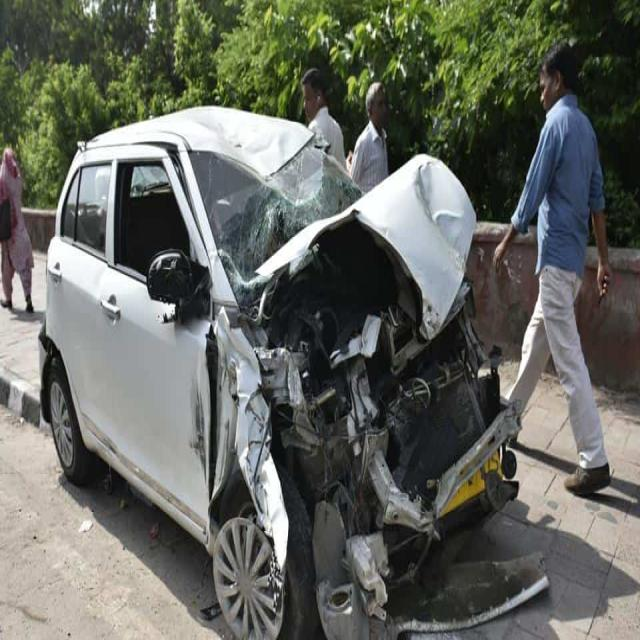accident: (39, 107, 548, 638)
